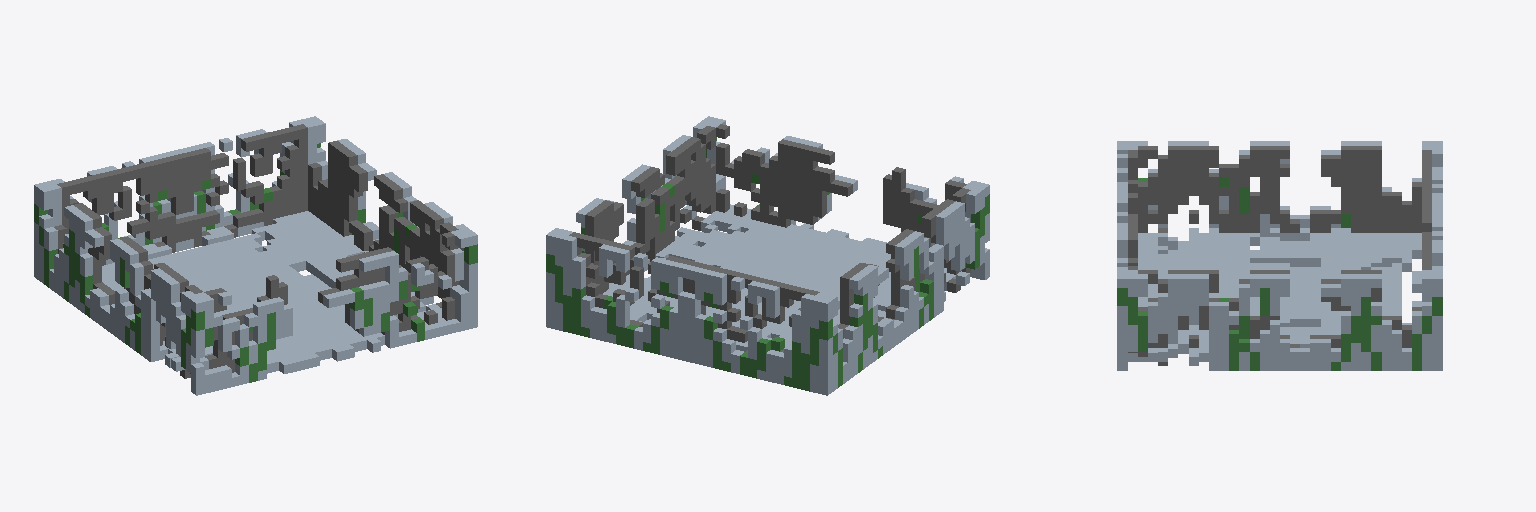
The picture shows the model from 3 angles: view 1: azimuth 30°, elevation 25°; view 2: azimuth 150°, elevation 25°; view 3: azimuth 270°, elevation 25°; orthographic projection.
Visible parts, largest first — view 1: object 1; view 2: object 1; view 3: object 1.
Part boxes in pixels (left/top/right/bottom): object 1: left=34, top=116, right=477, bottom=395; object 1: left=546, top=116, right=989, bottom=395; object 1: left=1117, top=141, right=1442, bottom=370.
Bounding box in the file's own units: 3.2 × 1 × 3.2.
1 materials, 1 textured.